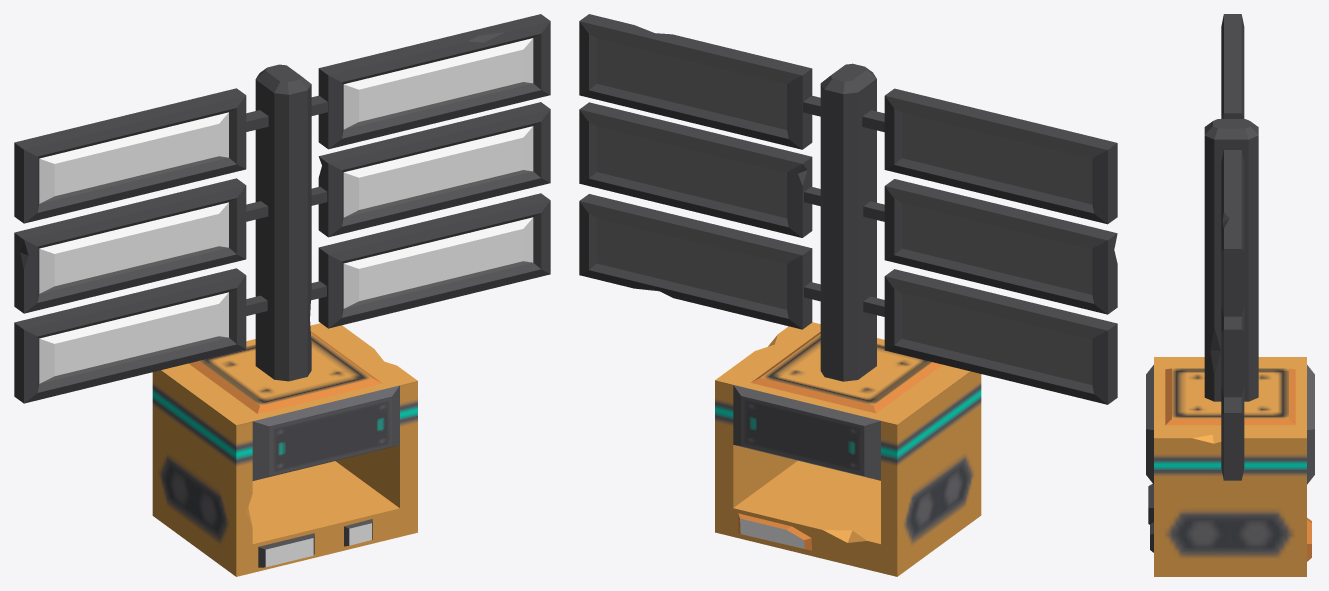
File: SM_Prop_Street_Light_06.fbx
3 renders of one model, left to right at view 1: azimuth 30°, elevation 25°; view 2: azimuth 150°, elevation 25°; view 3: azimuth 270°, elevation 25°, orthographic. The views are drawn at different scales.
Visible parts, largest first — view 1: SM_Prop_Street_Light_06; view 2: SM_Prop_Street_Light_06; view 3: SM_Prop_Street_Light_06.
Part boxes in pixels (<box>): SM_Prop_Street_Light_06: <box>14,14,550,576</box>; SM_Prop_Street_Light_06: <box>579,14,1117,576</box>; SM_Prop_Street_Light_06: <box>1146,14,1314,576</box>.
Bounding box in the file's own units: 172 × 141 × 52.3.
